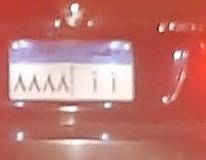8: (11, 71, 27, 95), (55, 71, 70, 94), (27, 72, 41, 94), (41, 74, 55, 94)
alif: (105, 69, 124, 96), (84, 72, 101, 94)
